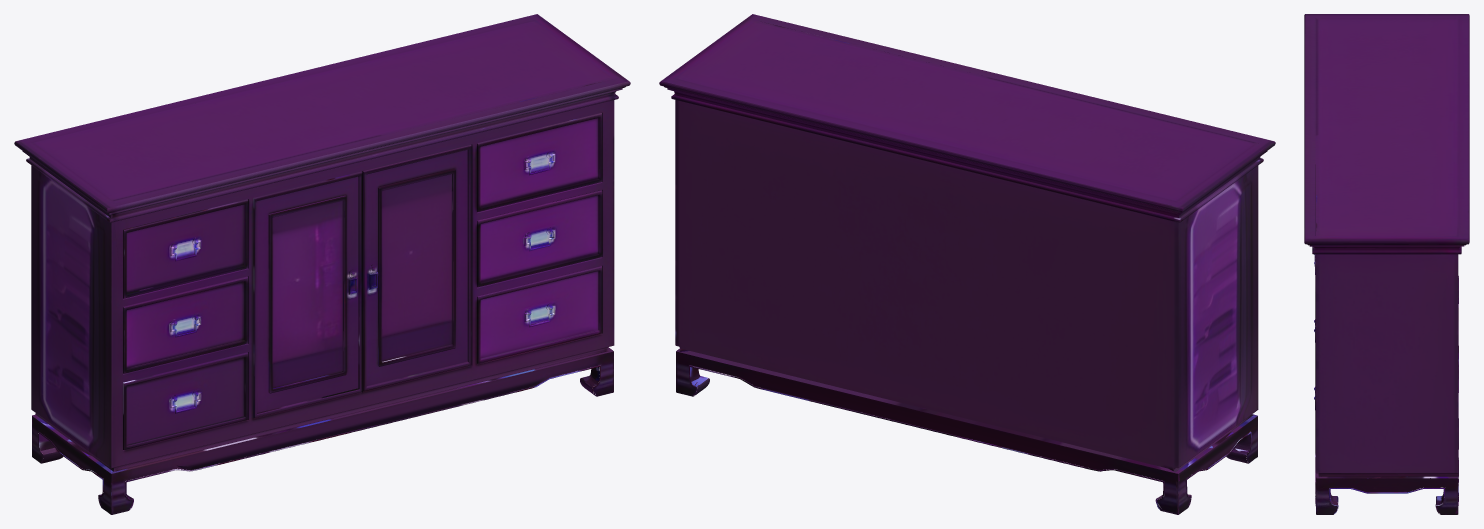
Rendered from edited_mesh.glb.
3 renders of one model, left to right at view 1: azimuth 30°, elevation 25°; view 2: azimuth 150°, elevation 25°; view 3: azimuth 270°, elevation 25°, orthographic. The views are drawn at different scales.
Parts seen in each view (by area): view 1: solid_001_wire; view 2: solid_001_wire; view 3: solid_001_wire.
Boxes of the visible parts, bbox=[...] form: solid_001_wire: bbox=[14, 14, 630, 514]; solid_001_wire: bbox=[659, 14, 1275, 514]; solid_001_wire: bbox=[1304, 14, 1469, 514].
Bounding box in the file's own units: 1.86 × 1.07 × 0.5733.
Materials: 1 (1 with a texture image).
